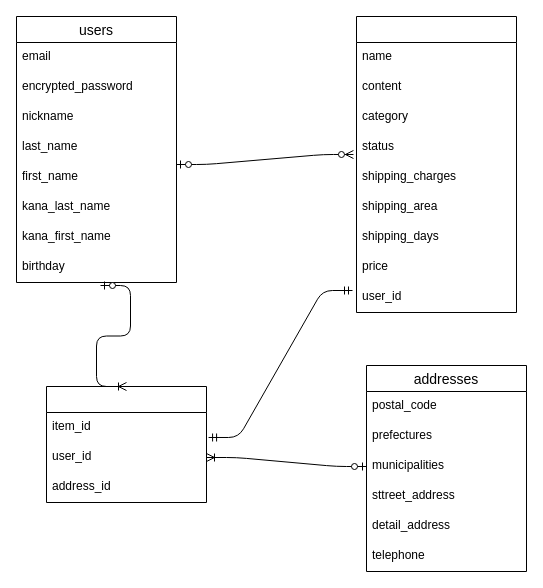
Image size: 543x588. Some labels were removed from this diagram. The box of each missing label's shape, as (x1, y1, x2, y2) in pixels:
items: (356, 16, 516, 312)
orders: (46, 386, 206, 502)
